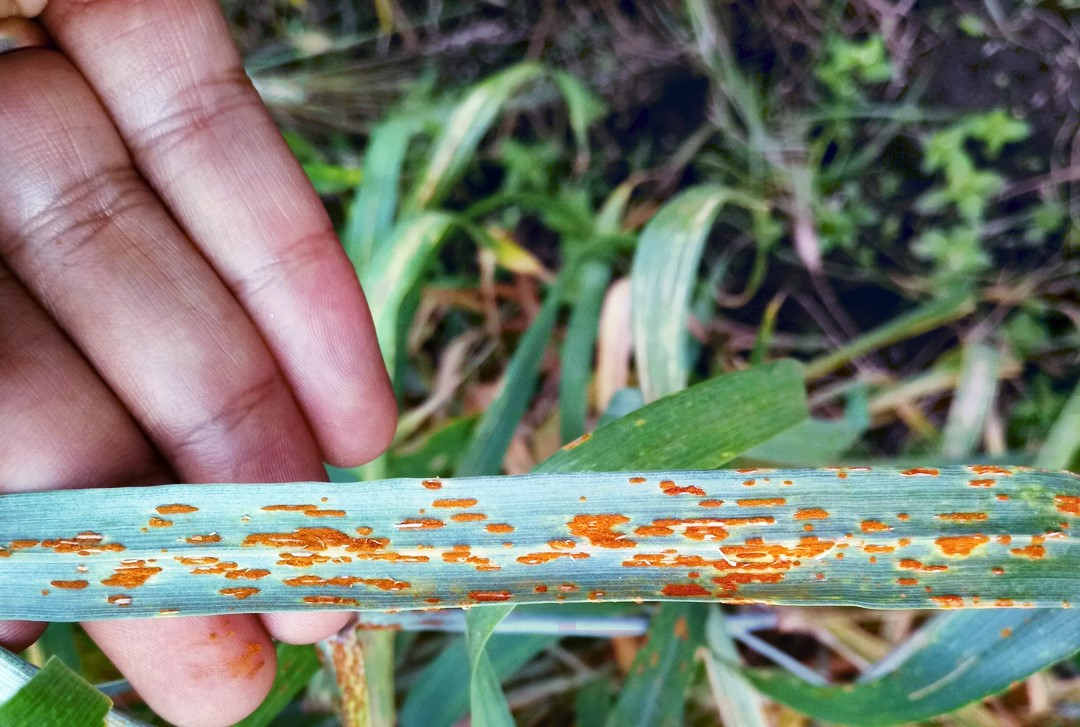Leaf Rust: (30, 462, 1031, 627)
